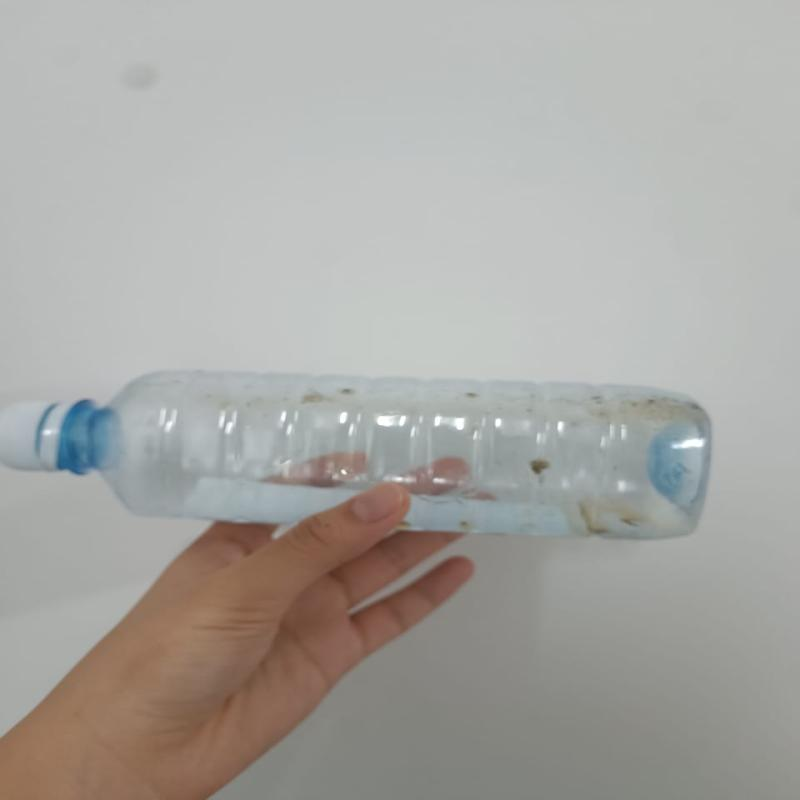botella: (0, 367, 715, 540)
